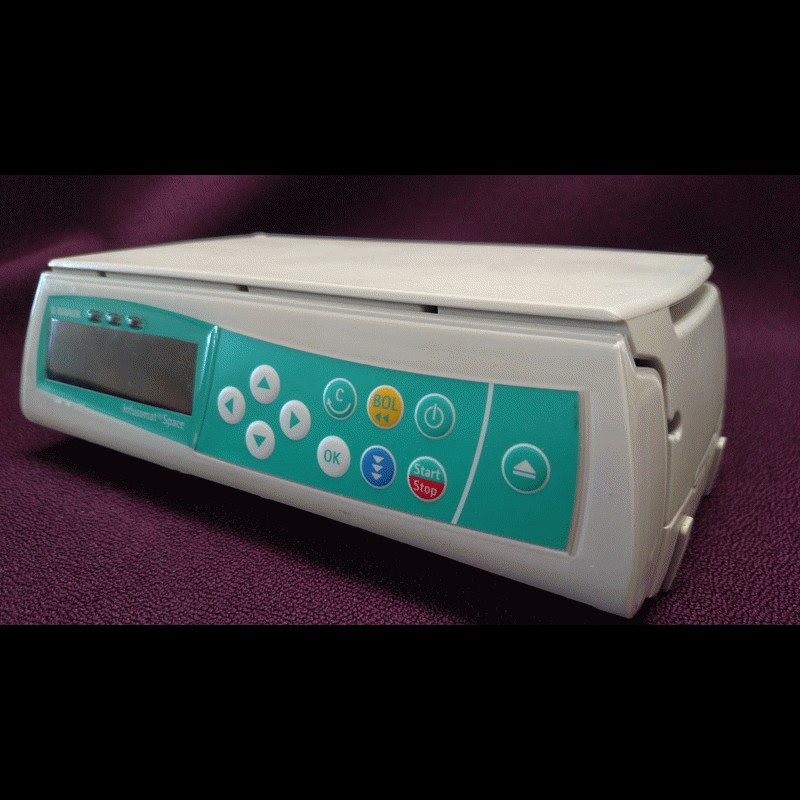BBraun Infusomat Space: (16, 215, 740, 626)
